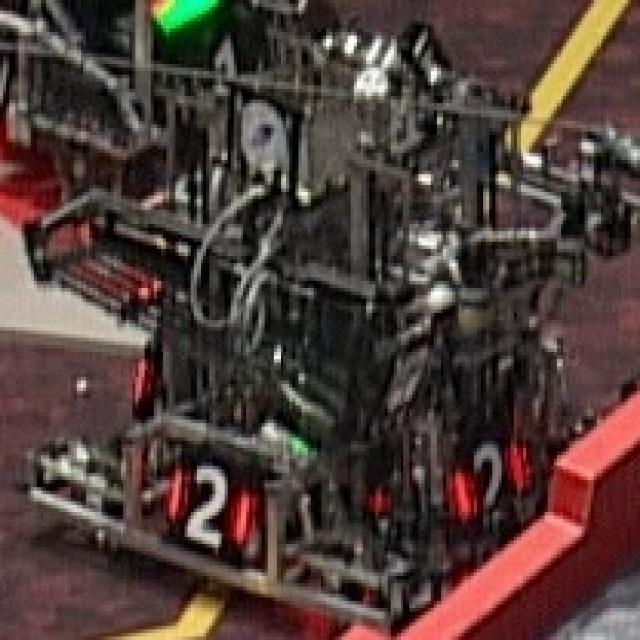R2: (163, 458, 249, 548), (449, 437, 523, 523)
